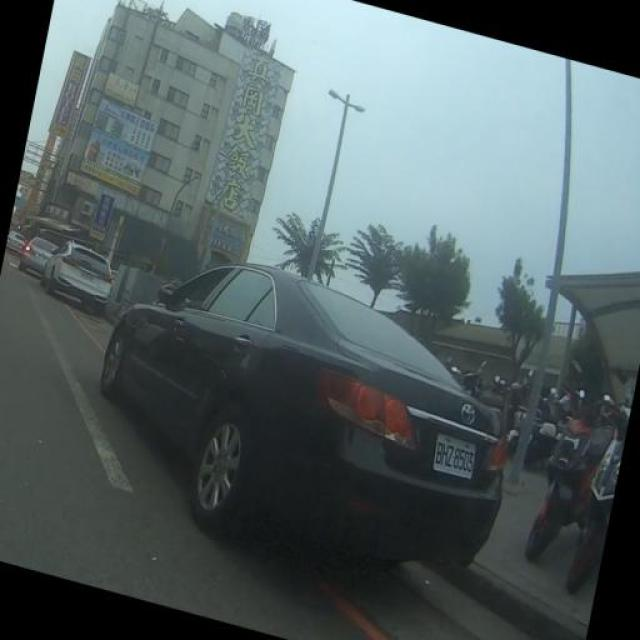illegalparking: (76, 253, 522, 586)
